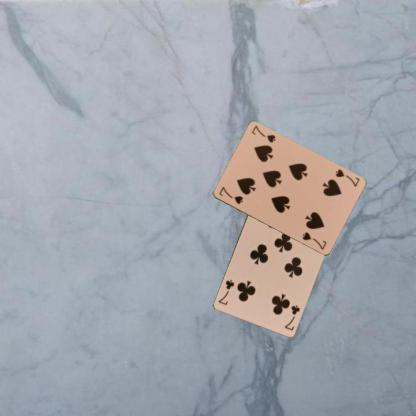7c: (281, 302, 301, 332)
7s: (333, 166, 360, 188), (216, 184, 244, 205)
